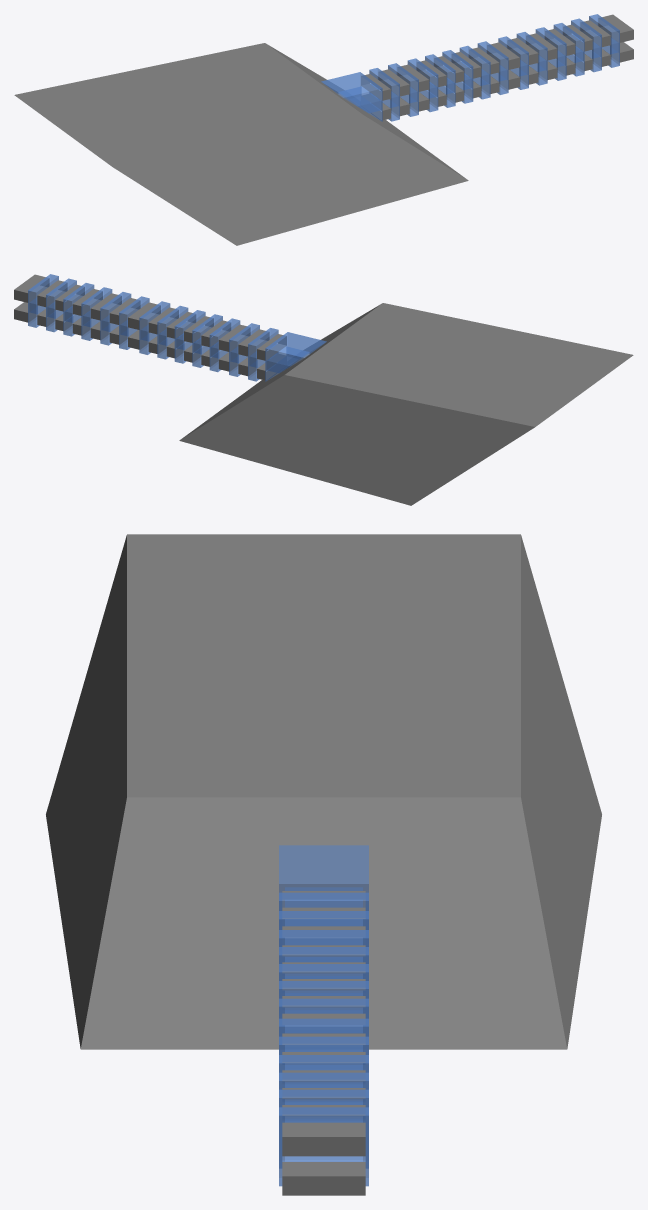
The model's file is TankTop2.fbx.
3 views of the same model, one above another, from view 1: azimuth 30°, elevation 25°; view 2: azimuth 150°, elevation 25°; view 3: azimuth 270°, elevation 25° (orthographic). The views are drawn at different scales.
Parts seen in each view (by area): view 1: Top2; view 2: Top2; view 3: Top2.
Part boxes in pixels (bbox=[...]): Top2: bbox=[14, 14, 633, 245]; Top2: bbox=[14, 274, 633, 505]; Top2: bbox=[46, 534, 601, 1195].
Bounding box in the file's own units: 528 × 80.48 × 227.
